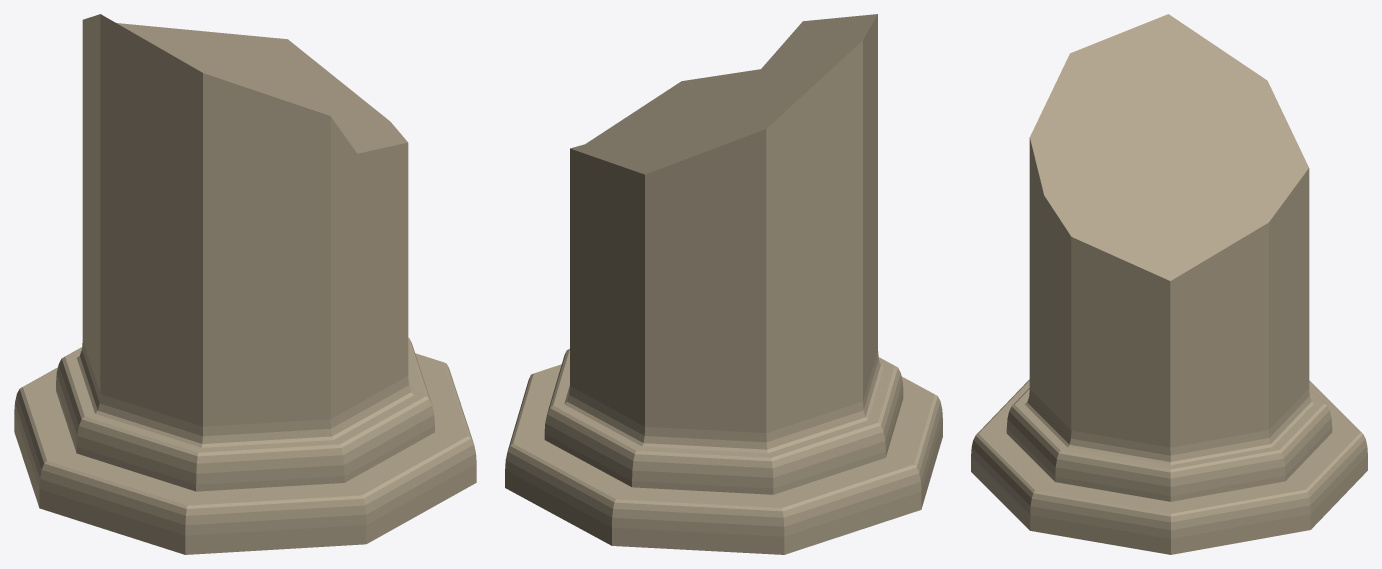
Rendered from Column_Broken_Var1.fbx.
3 renders of one model, left to right at view 1: azimuth 30°, elevation 25°; view 2: azimuth 150°, elevation 25°; view 3: azimuth 270°, elevation 25°, orthographic. The views are drawn at different scales.
Parts seen in each view (by area): view 1: Column_Broken_Variant_2; view 2: Column_Broken_Variant_2; view 3: Column_Broken_Variant_2.
Boxes of the visible parts, bbox=[...] form: Column_Broken_Variant_2: bbox=[14, 14, 476, 554]; Column_Broken_Variant_2: bbox=[505, 14, 942, 554]; Column_Broken_Variant_2: bbox=[971, 14, 1367, 554].
Size of the model in its own units: 79.82 by 79.82 by 88.34.
